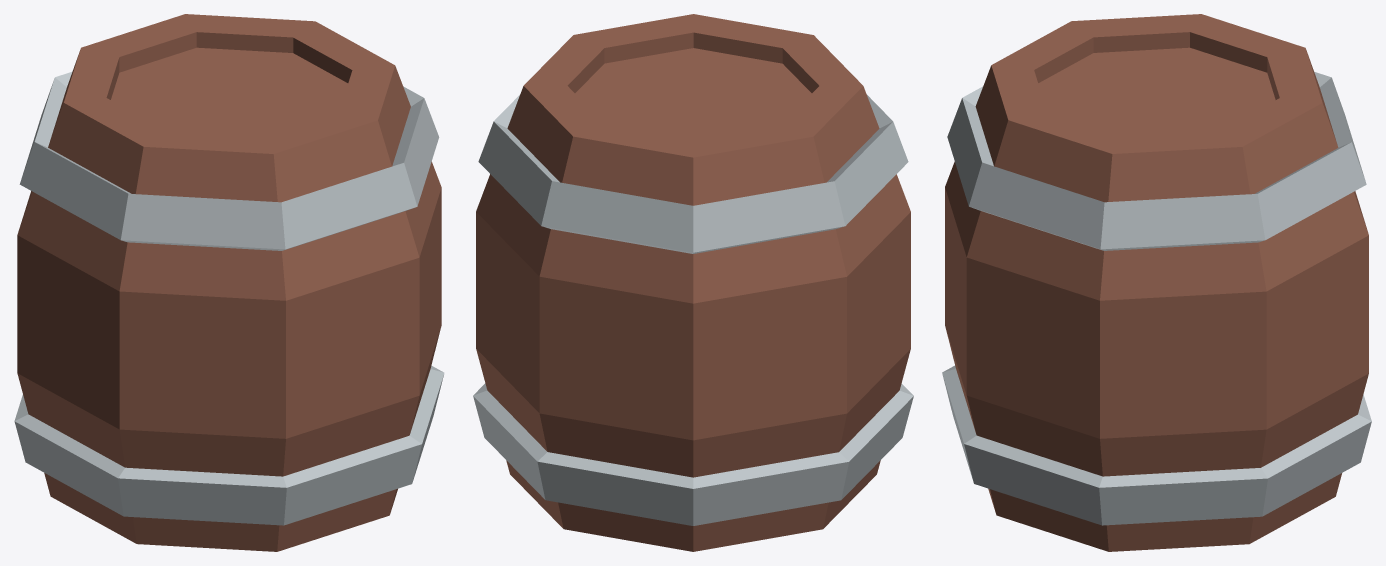
File: Barrel.fbx
3 views of the same model, side by side, from view 1: azimuth 30°, elevation 25°; view 2: azimuth 150°, elevation 25°; view 3: azimuth 270°, elevation 25° (orthographic).
Visible parts, largest first — view 1: Barrel; view 2: Barrel; view 3: Barrel.
Boxes of the visible parts, x1,y1,x2,y2 form: Barrel: (14,14,444,551); Barrel: (473,14,913,551); Barrel: (942,14,1371,551).
Bounding box in the file's own units: 62.37 × 62.81 × 62.37.
